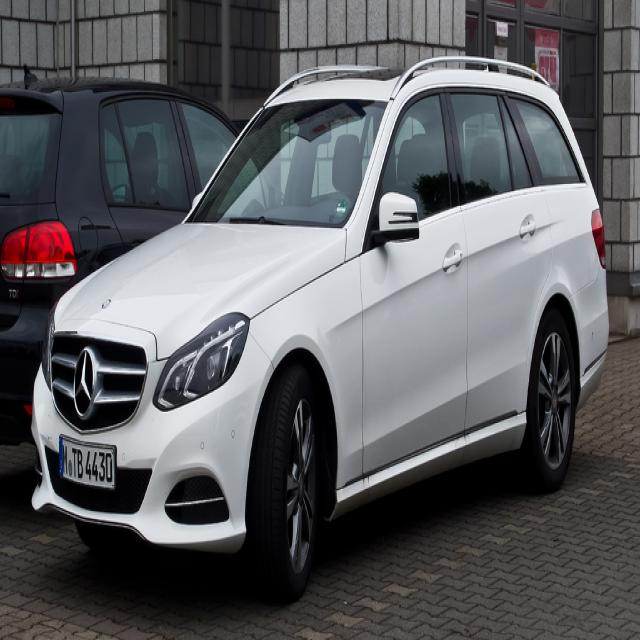car: (28, 47, 620, 608)
